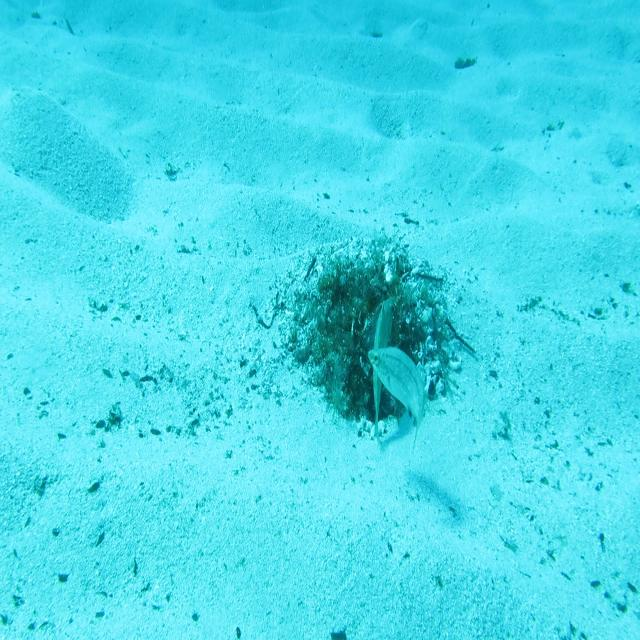FAN: (371, 294, 396, 454)
core_nest: (340, 281, 384, 312)
female: (367, 344, 428, 456)
nest: (269, 227, 467, 458)
vegetation: (453, 54, 477, 73)
